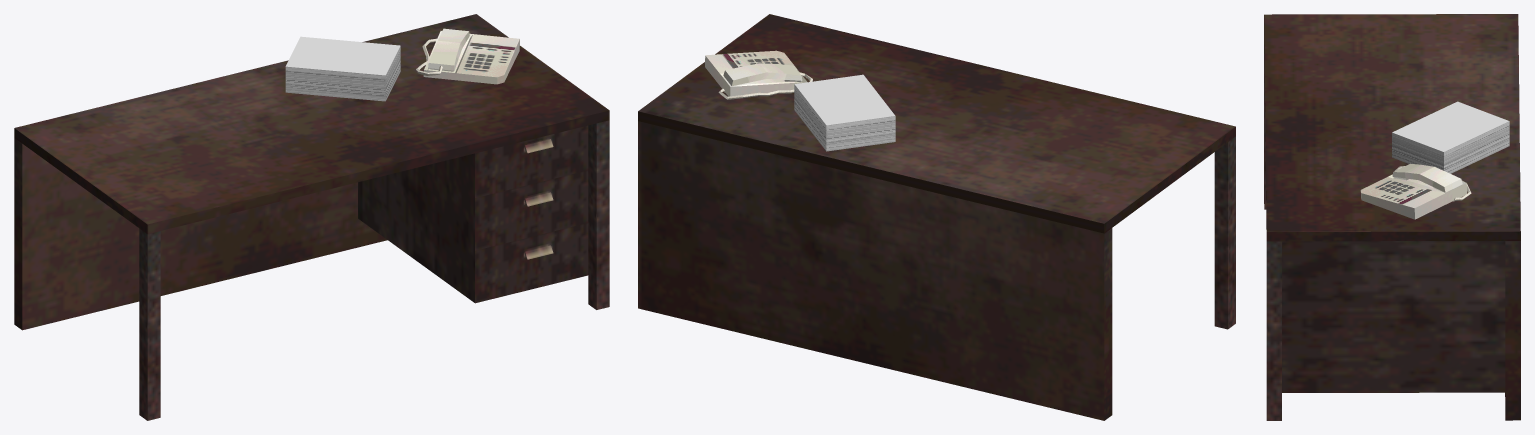
The model's file is desk_02.fbx.
3 renders of one model, left to right at view 1: azimuth 30°, elevation 25°; view 2: azimuth 150°, elevation 25°; view 3: azimuth 270°, elevation 25°, orthographic. The views are drawn at different scales.
Visible parts, largest first — view 1: desk2_alt3_weathered, paper_stack_large, desk_phone_with_cable; view 2: desk2_alt3_weathered, paper_stack_large, desk_phone_with_cable; view 3: desk2_alt3_weathered, paper_stack_large, desk_phone_with_cable.
Part boxes in pixels (<box>): desk2_alt3_weathered: <box>14,14,609,420</box>; paper_stack_large: <box>285,36,400,101</box>; desk_phone_with_cable: <box>416,28,519,84</box>; desk2_alt3_weathered: <box>638,14,1235,420</box>; paper_stack_large: <box>794,74,895,151</box>; desk_phone_with_cable: <box>705,50,812,99</box>; desk2_alt3_weathered: <box>1264,14,1520,420</box>; paper_stack_large: <box>1392,101,1509,173</box>; desk_phone_with_cable: <box>1360,163,1471,219</box>.
Size of the model in its own units: 221 by 101 by 110.
